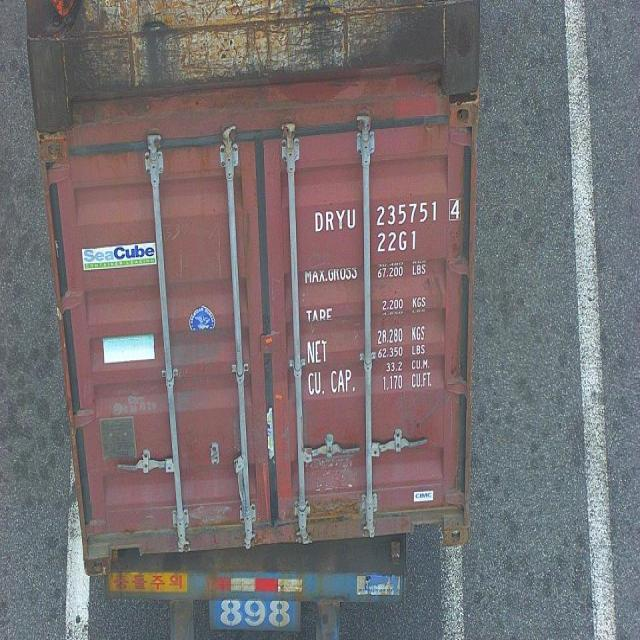ISO: (374, 230, 418, 253)
container_number: (314, 198, 468, 226)
